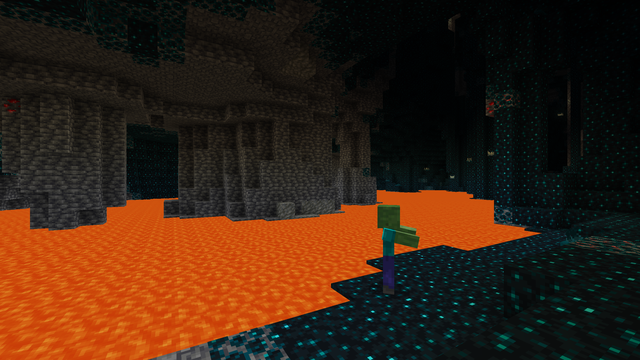zombies: (370, 206, 406, 297)
